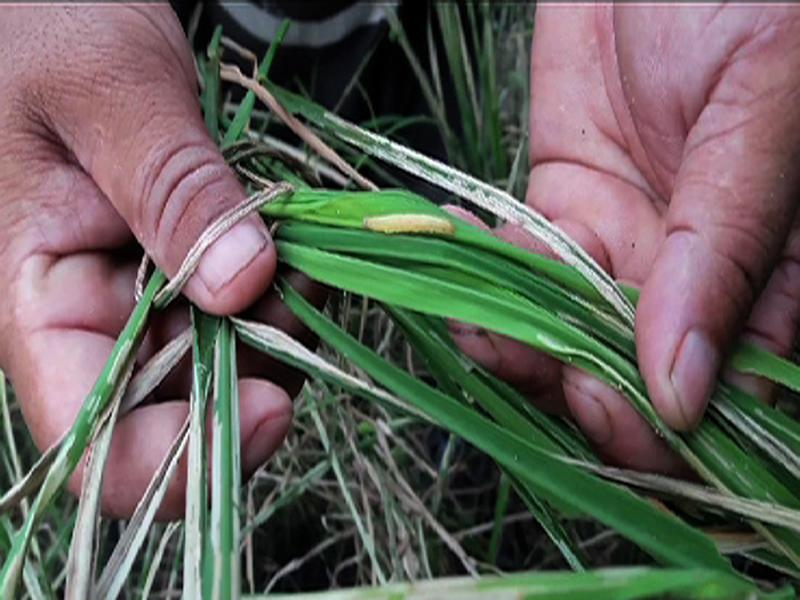Leaf_folder: (357, 196, 465, 274)
